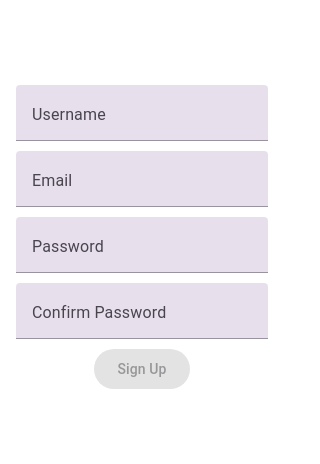
Test: SignUp form › server errors › displays server error for invalid fields
Type "testUser" into the field named "Username" at [142, 113], box [16,85,268,141]
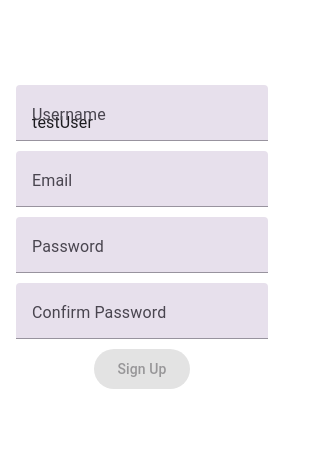
Type "test@test.com" into the field named "Email" at [142, 179], box [16,151,268,207]
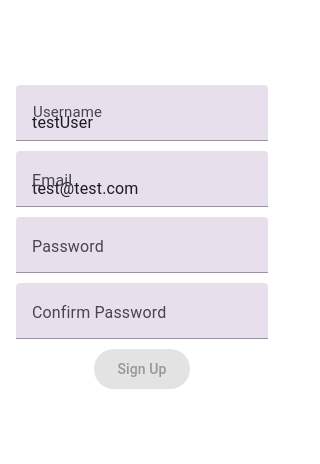
Type "password123" into the password field named "Password" at [142, 245], box [16,217,268,273]
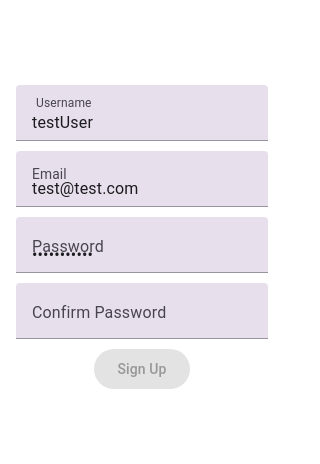
Type "password123" into the password field named "Confirm Password" at [142, 311], box [16,283,268,339]
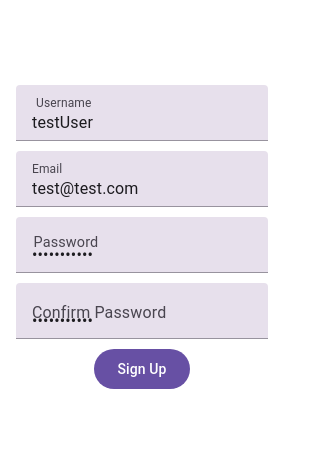
Click the button "Sign Up" at [142, 369], box [94,349,190,389]
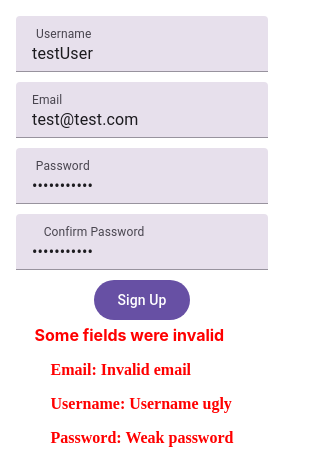
Expected: the text "Some fields were invalid" is shown, [35,325,250,345]
